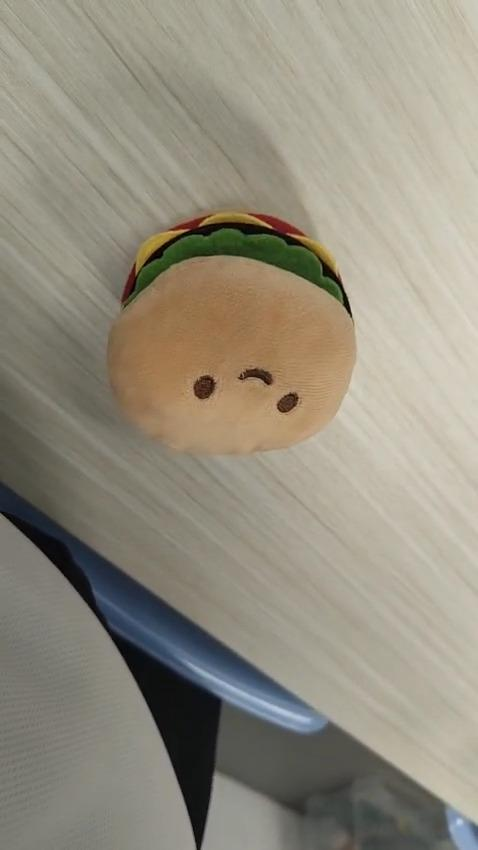hamburger: (112, 205, 361, 459)
